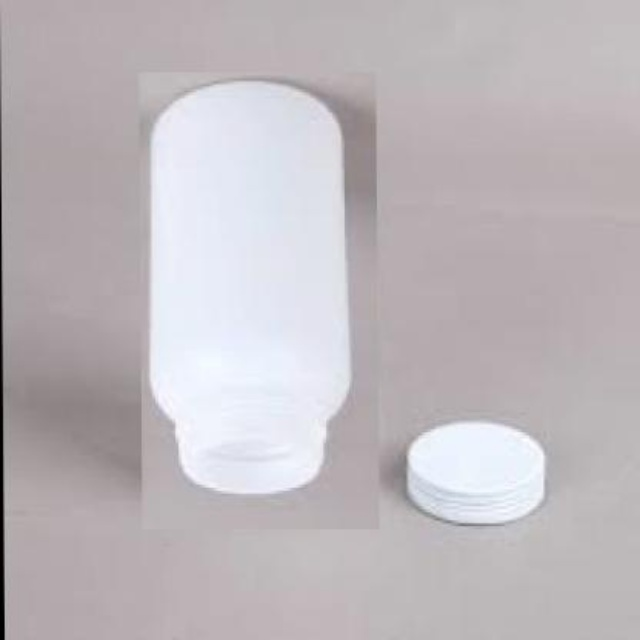trash: (149, 80, 351, 492), (406, 422, 543, 523)
